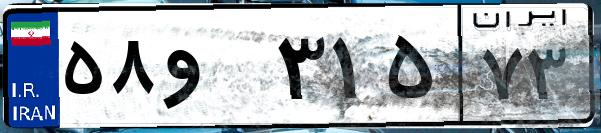1: (330, 28, 385, 110)
3: (270, 28, 330, 110), (525, 38, 570, 115)
5: (385, 28, 445, 110), (57, 26, 110, 100)
7: (475, 38, 525, 113)
8: (110, 28, 158, 98)
و: (158, 20, 270, 120)
